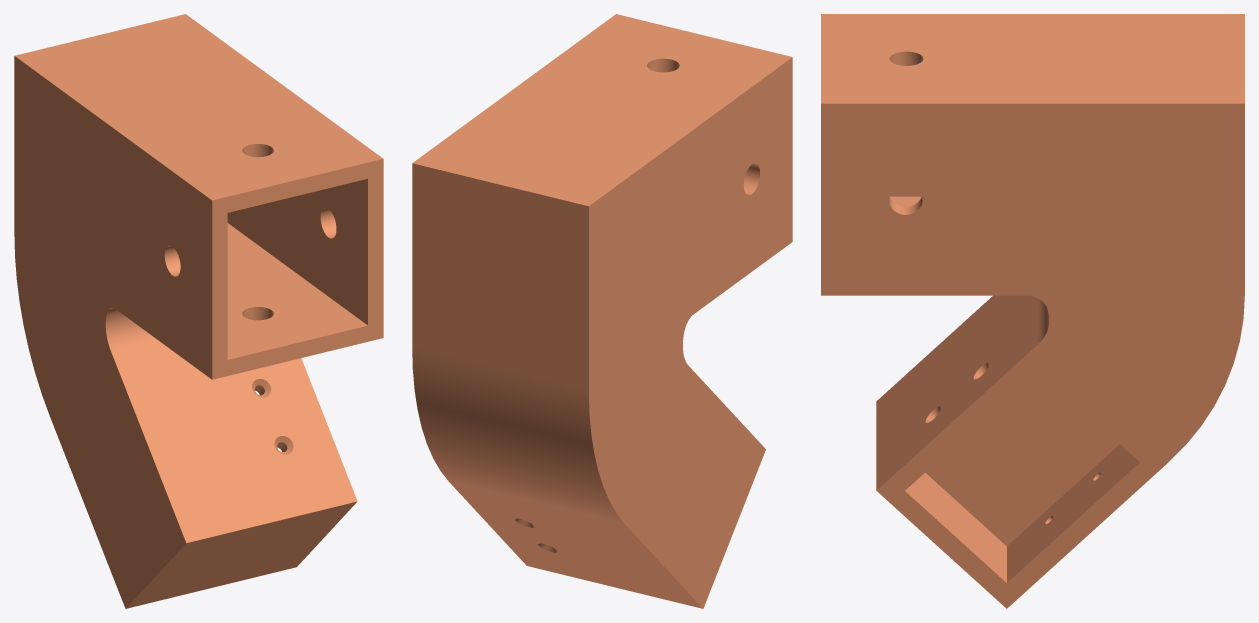
Rendered from shoulder2.gltf.
The picture shows the model from 3 angles, left to right: view 1: azimuth 30°, elevation 25°; view 2: azimuth 150°, elevation 25°; view 3: azimuth 270°, elevation 25°; orthographic projection. The views are drawn at different scales.
Visible parts, largest first — view 1: Part 3; view 2: Part 3; view 3: Part 3.
Boxes of the visible parts, left/top/right/bottom form: Part 3: left=14, top=14, right=383, bottom=608; Part 3: left=412, top=14, right=792, bottom=608; Part 3: left=821, top=14, right=1244, bottom=608.
Size of the model in its own units: 0.05 by 0.1316 by 0.1.
